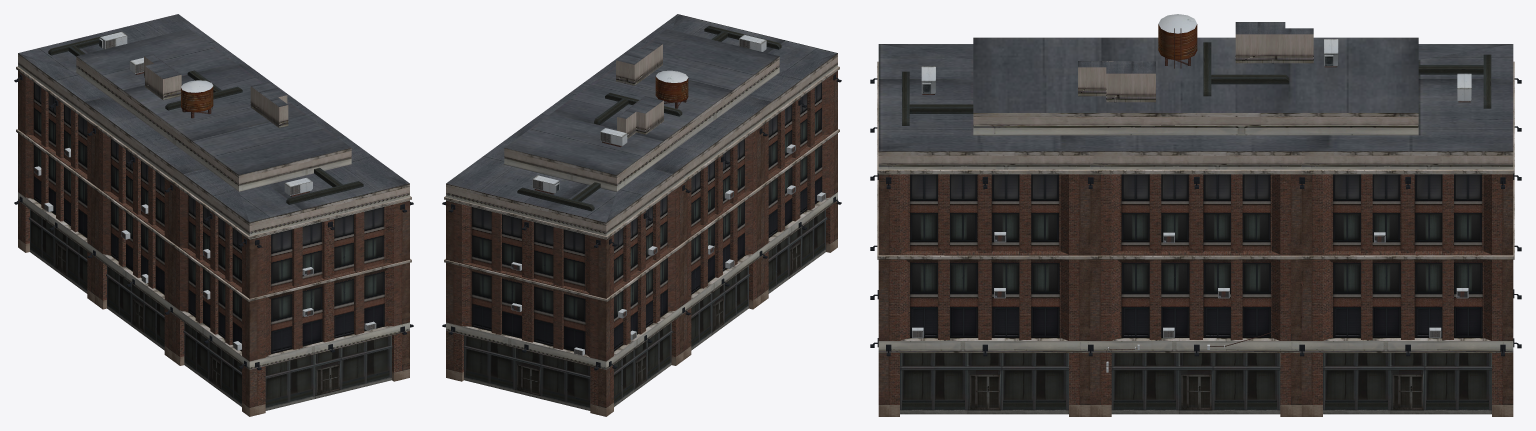
Rendered from BrownstoneOffice_1.fbx.
3 views of the same model, side by side, from view 1: azimuth 30°, elevation 25°; view 2: azimuth 150°, elevation 25°; view 3: azimuth 270°, elevation 25° (orthographic). The views are drawn at different scales.
Parts seen in each view (by area): view 1: Downtown_BrownstoneOffice_1__1_; view 2: Downtown_BrownstoneOffice_1__1_; view 3: Downtown_BrownstoneOffice_1__1_.
Boxes of the visible parts, x1=… form: Downtown_BrownstoneOffice_1__1_: x1=14, y1=14, x2=413, y2=416; Downtown_BrownstoneOffice_1__1_: x1=442, y1=14, x2=841, y2=416; Downtown_BrownstoneOffice_1__1_: x1=870, y1=14, x2=1521, y2=416.
Bounding box in the file's own units: 3779 × 4826 × 8624.
2 materials, 2 textured.
